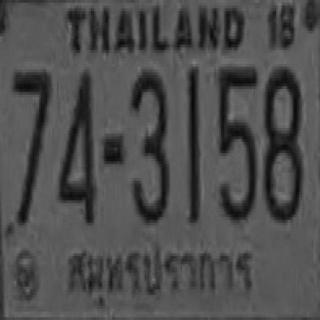N01: (186, 67, 199, 223)
N03: (129, 68, 168, 221)
N04: (56, 70, 93, 222)
N05: (217, 64, 256, 220)
N07: (10, 70, 50, 222), (10, 68, 50, 188)
N08: (262, 67, 301, 220)
